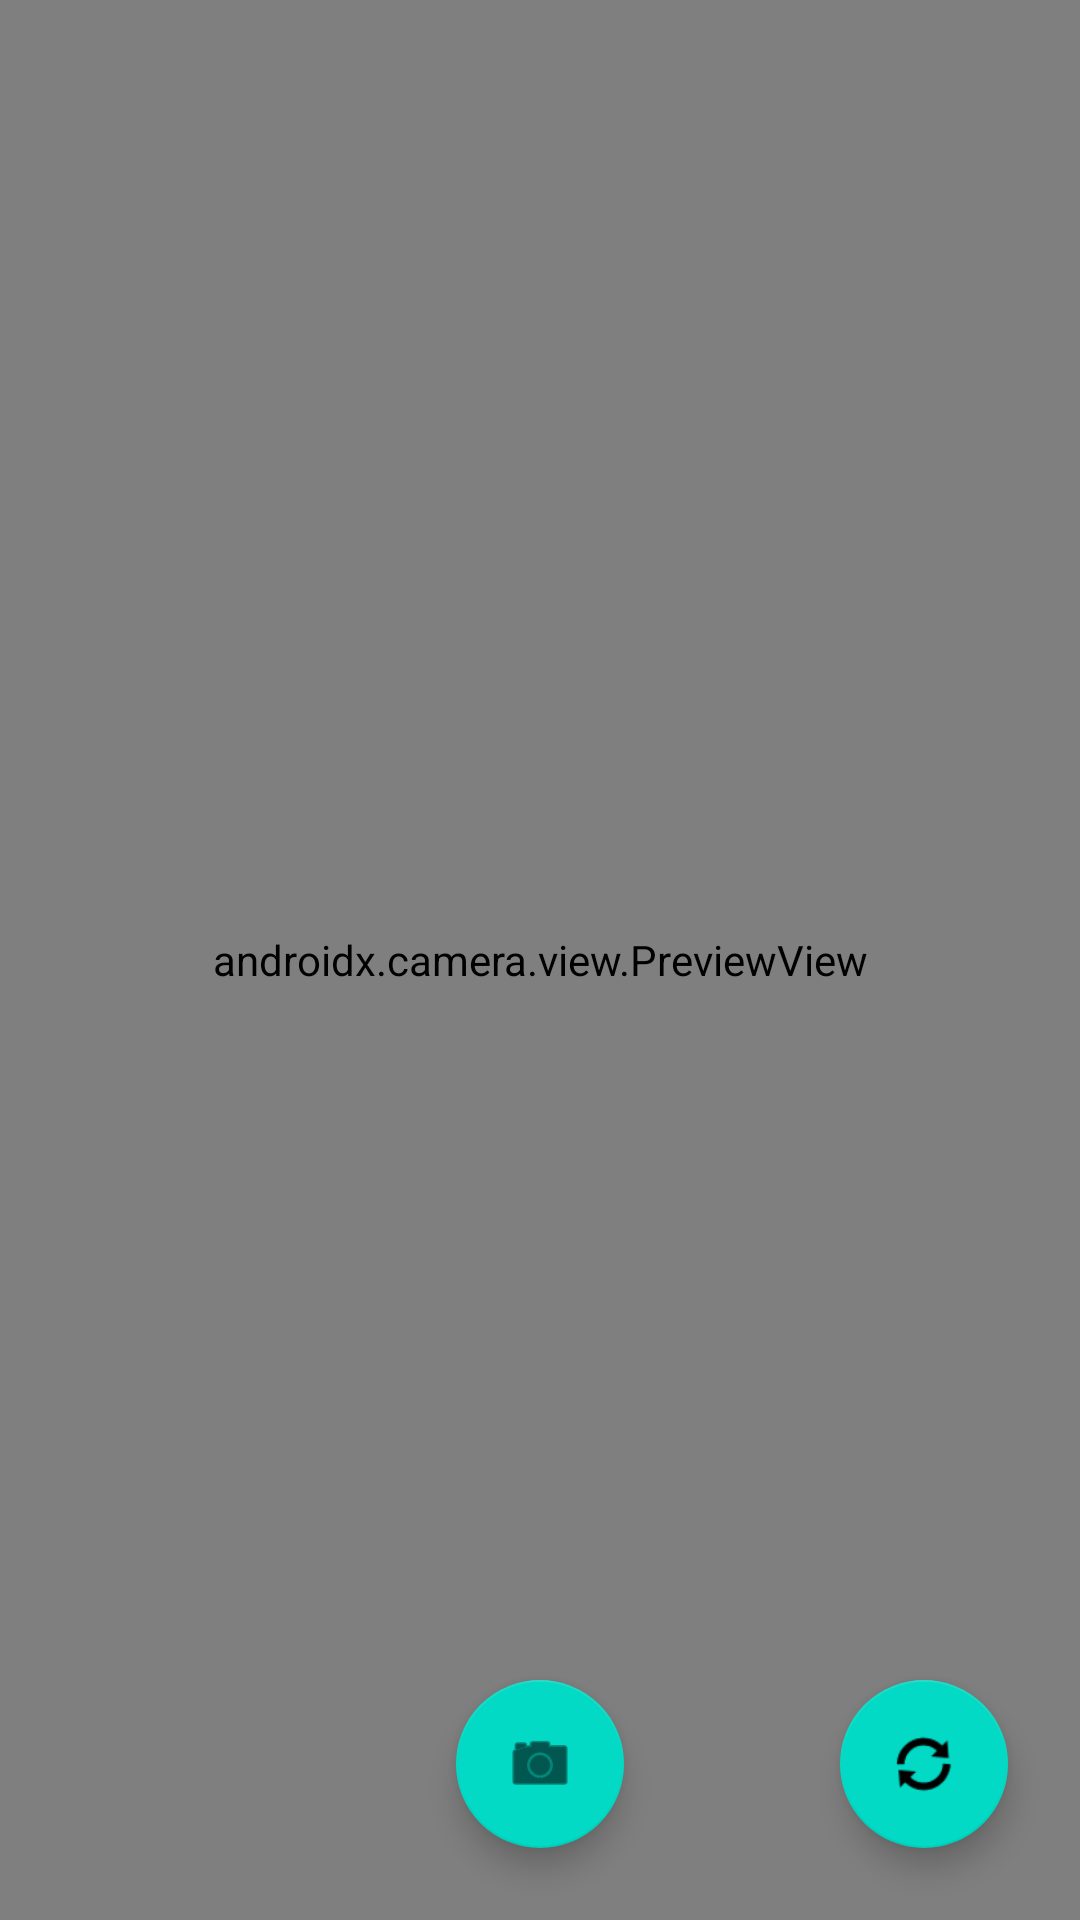

Icons on this 1080×1920 Android screen, each with the point to tap as point (x, y):
Switch camera: point (924, 1764)
Take photo: point (540, 1764)
